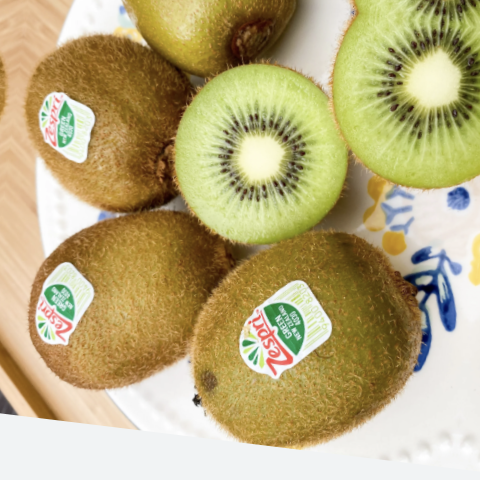kiwi: (161, 187, 434, 474), (0, 195, 251, 406), (6, 7, 212, 233)
